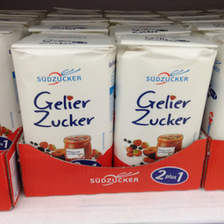tomato_sauce: (113, 34, 220, 166), (11, 32, 115, 167)
